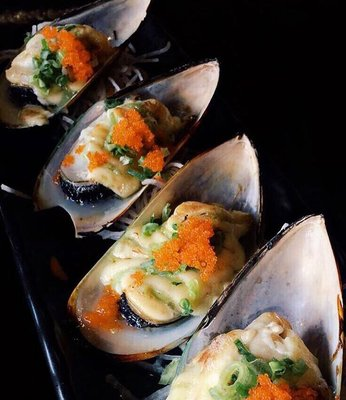sandwich: (66, 131, 262, 363), (165, 311, 334, 400)
